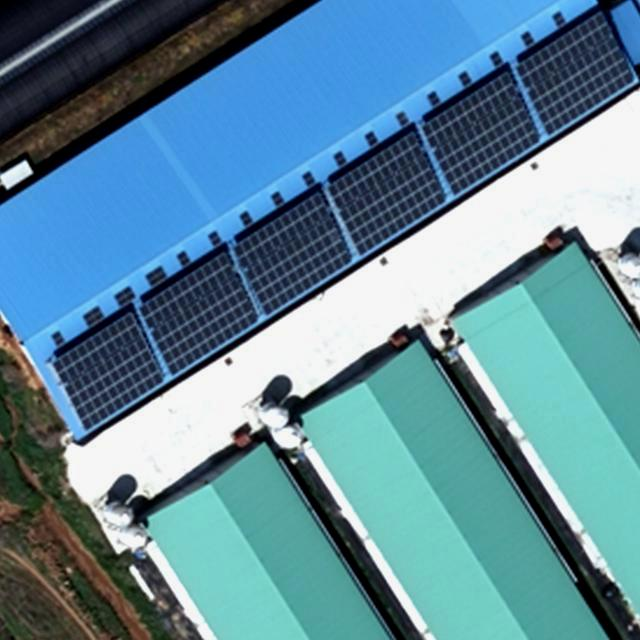solar: (232, 182, 359, 321), (139, 245, 264, 381), (420, 65, 543, 202), (520, 4, 639, 144), (334, 126, 449, 260), (47, 312, 169, 433)
